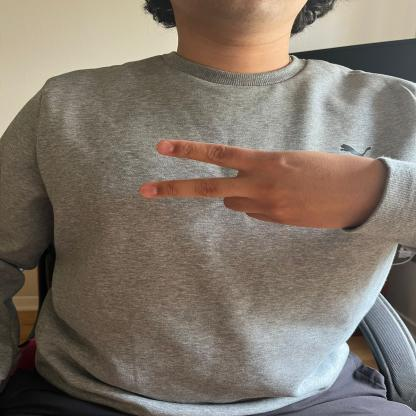H: (138, 133, 391, 239)
